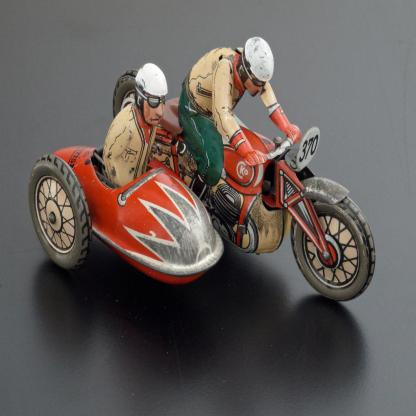Helmet: (234, 36, 274, 97), (132, 63, 168, 130)
